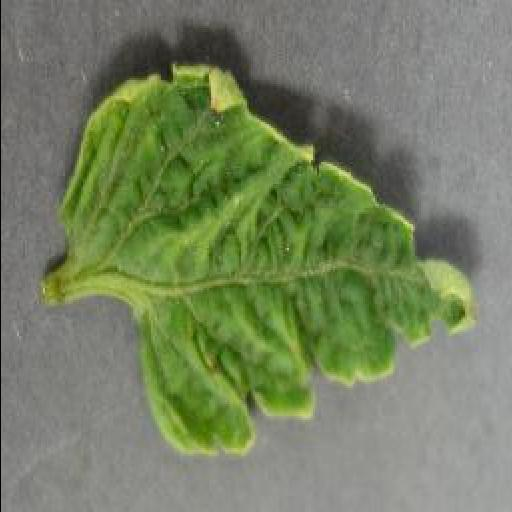disease_tomato: (63, 64, 477, 458)
